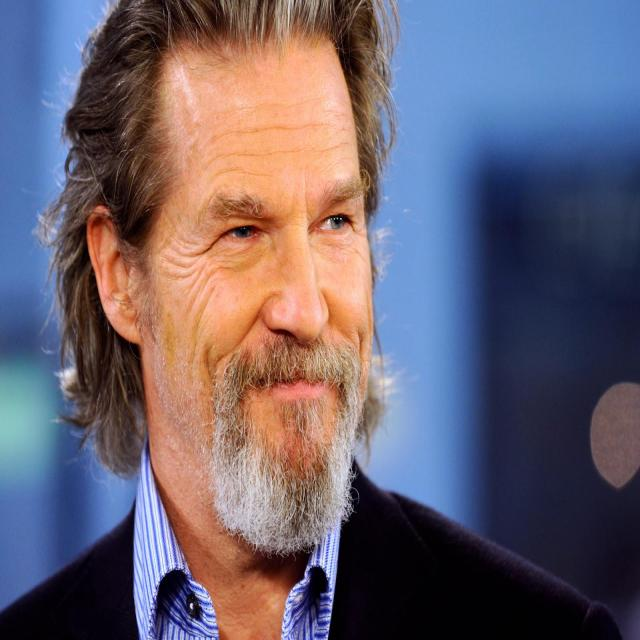no-earmuff: (80, 195, 159, 357)
